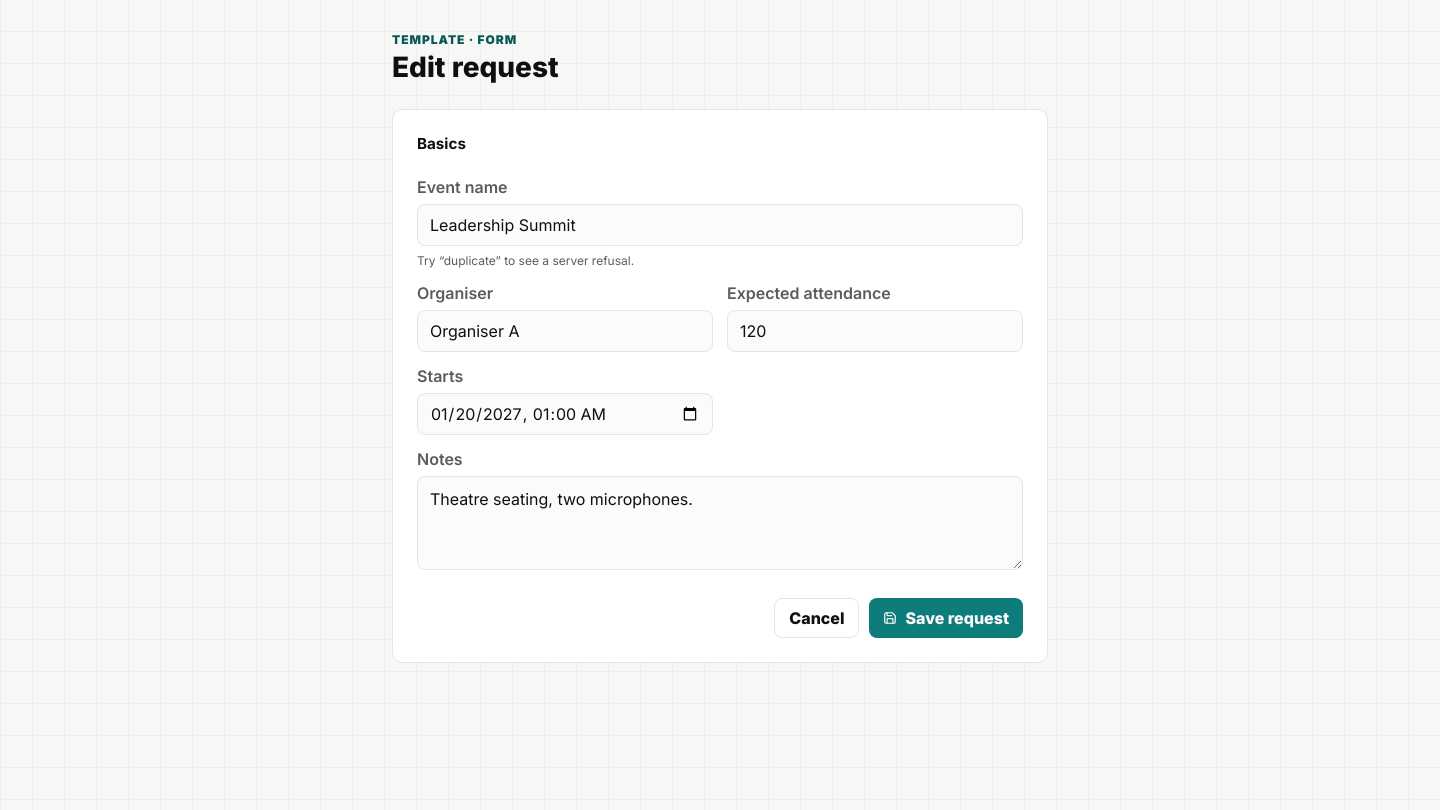
Test case: Form: errors appear next to fields, a server refusal is shown, and a save opens the detail page
Step 1. Clear the field labelled "Event name" → (720,225), box x1=417 y1=204 x2=1023 y2=246
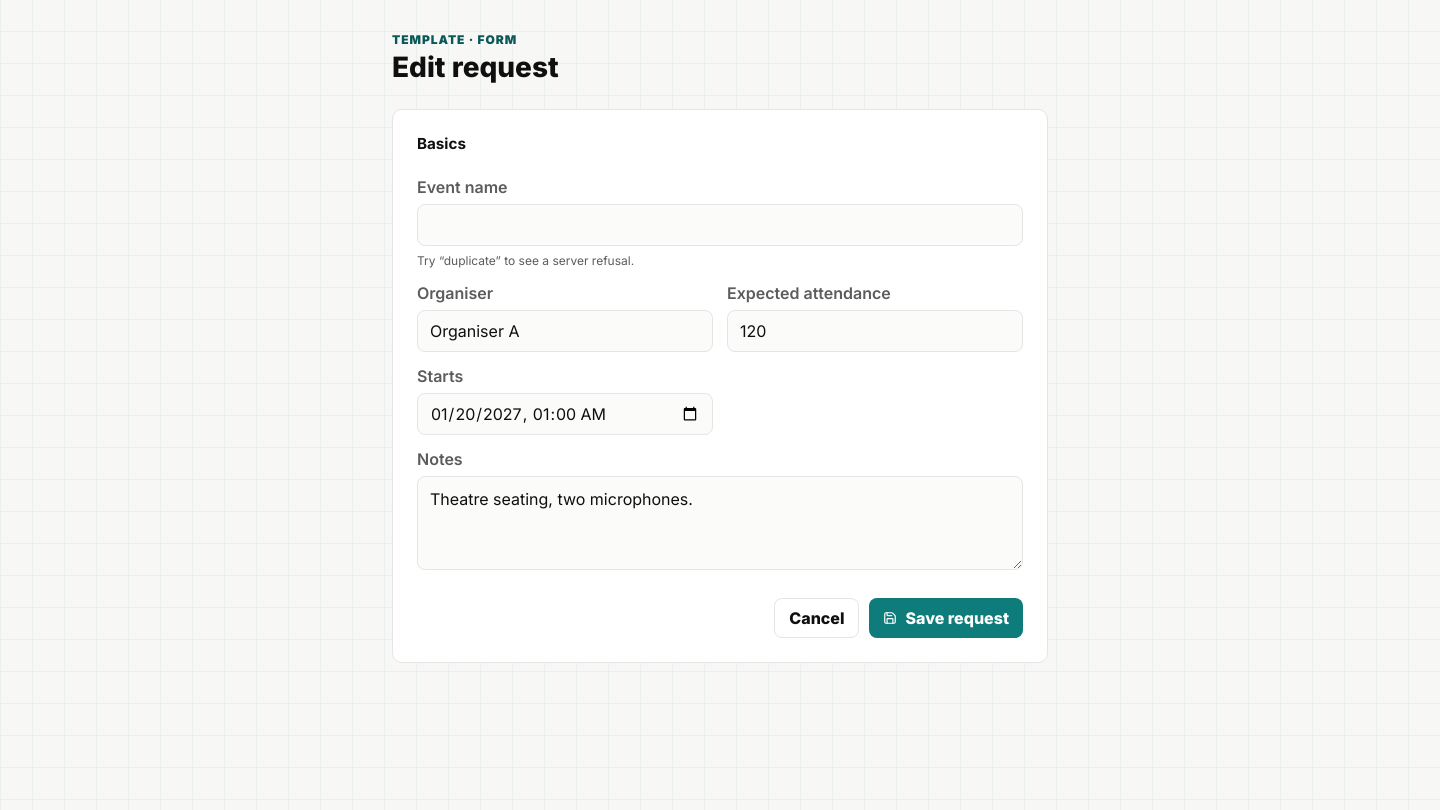
Step 2. Click the button "Save request" → (946,618), box x1=870 y1=598 x2=1023 y2=638
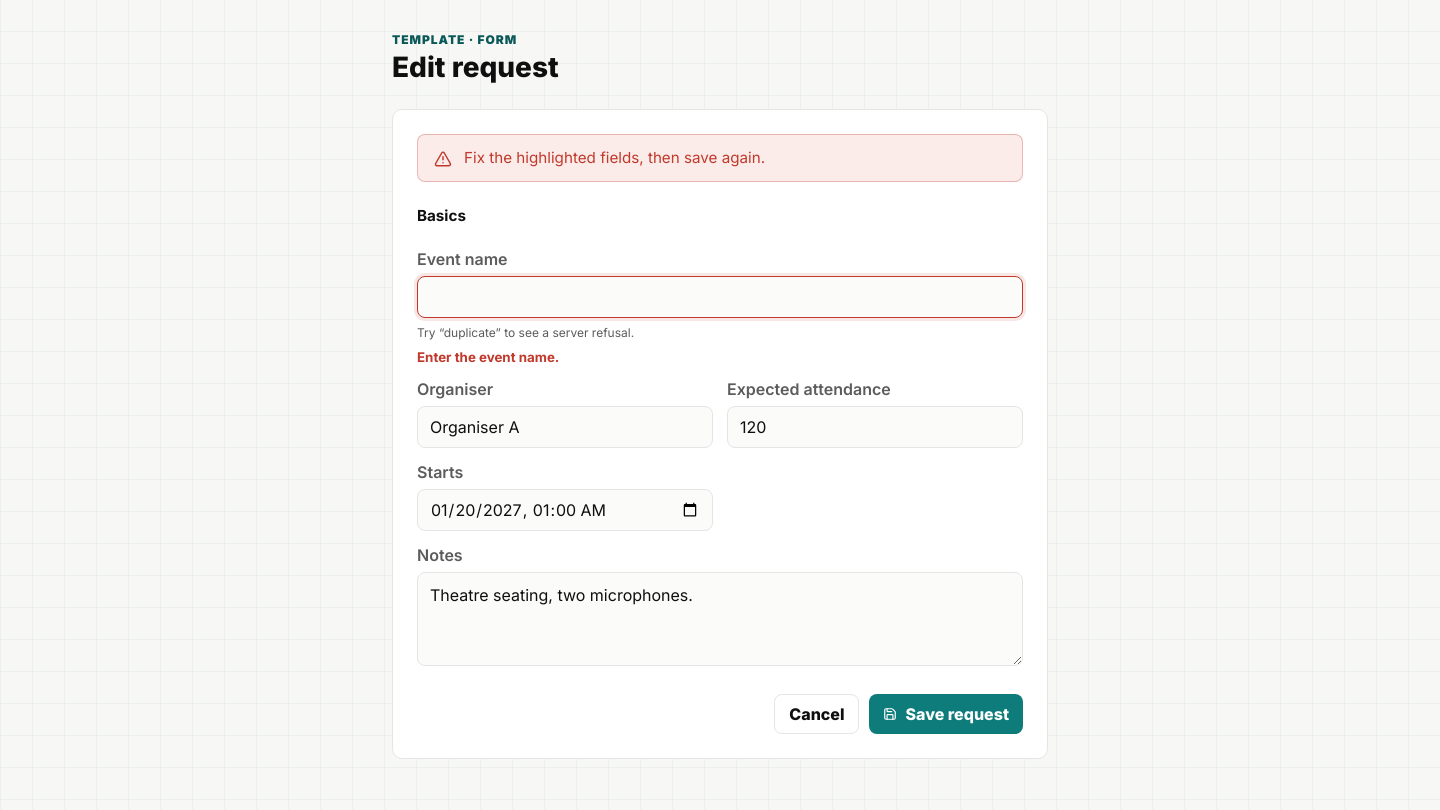
Expected: the message shows "Fix the highlighted fields", x1=464 y1=148 x2=765 y2=167
Step 3. Type "duplicate" into the field labelled "Event name" → (720,297), box x1=417 y1=276 x2=1023 y2=318
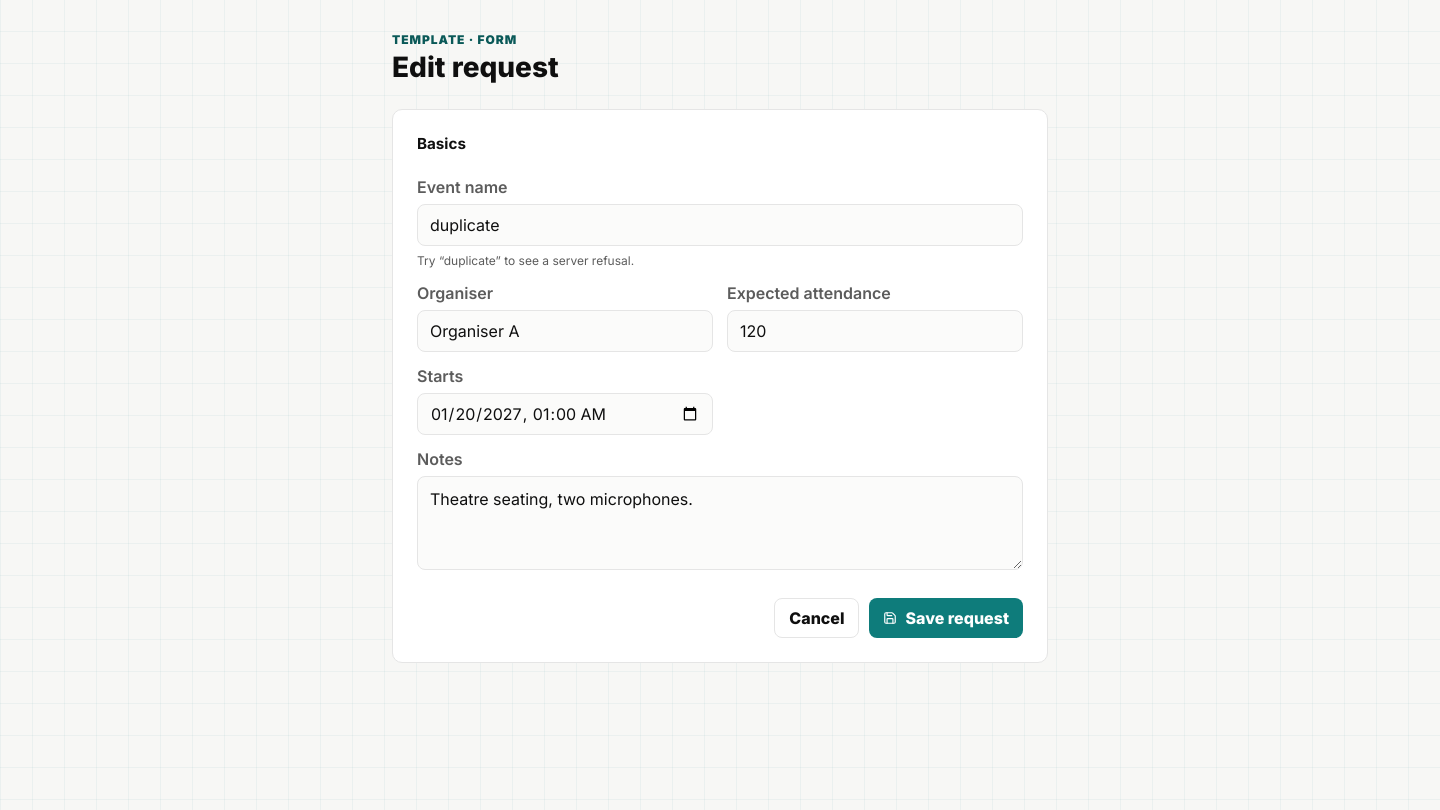
Step 4. Click the button "Save request" → (946,618), box x1=870 y1=598 x2=1023 y2=638
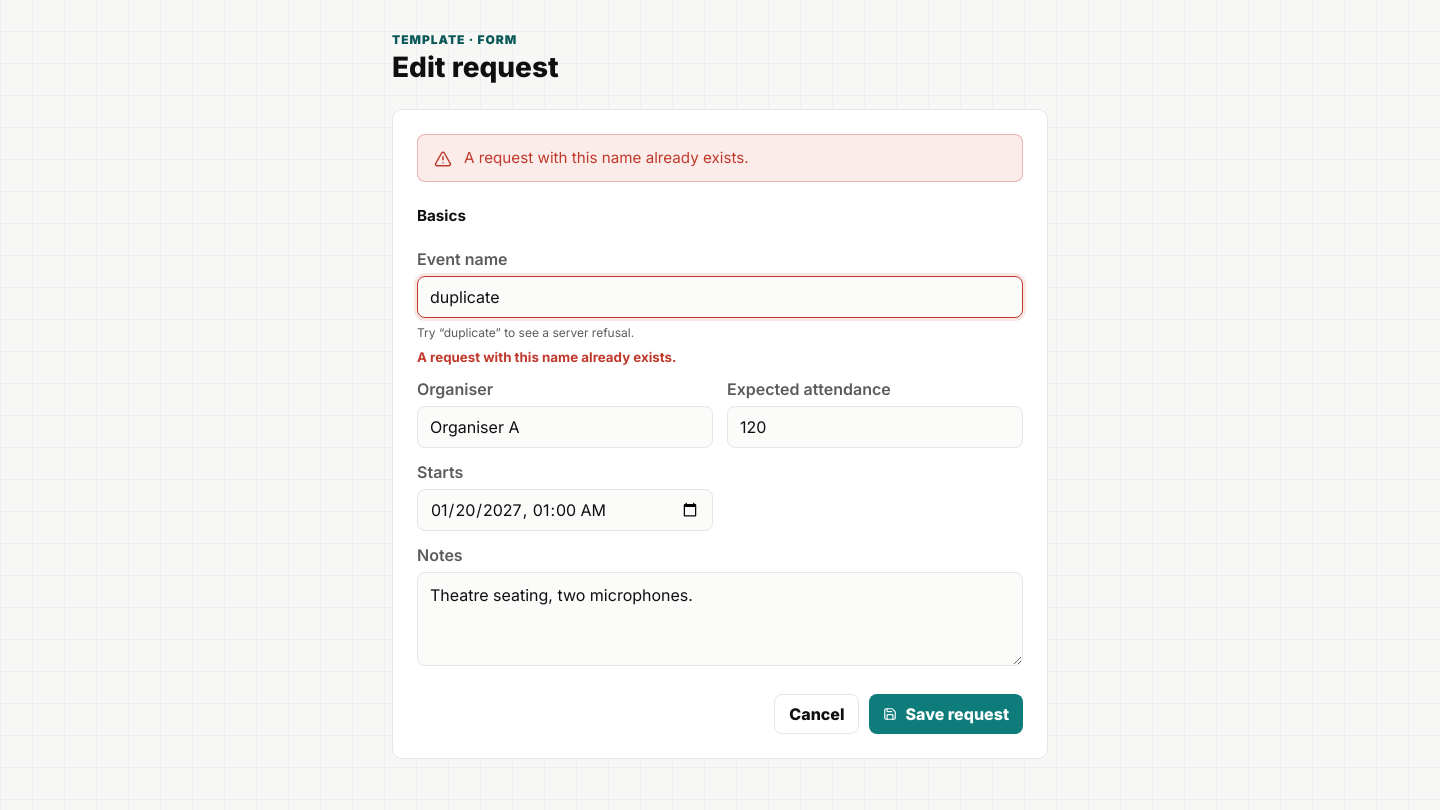
Expected: the message reads "A request with this name already exists.", x1=464 y1=148 x2=749 y2=167
Step 5. Replace the text in the field labelled "Event name" with "Leadership Summit 2027" → (720,297), box x1=417 y1=276 x2=1023 y2=318
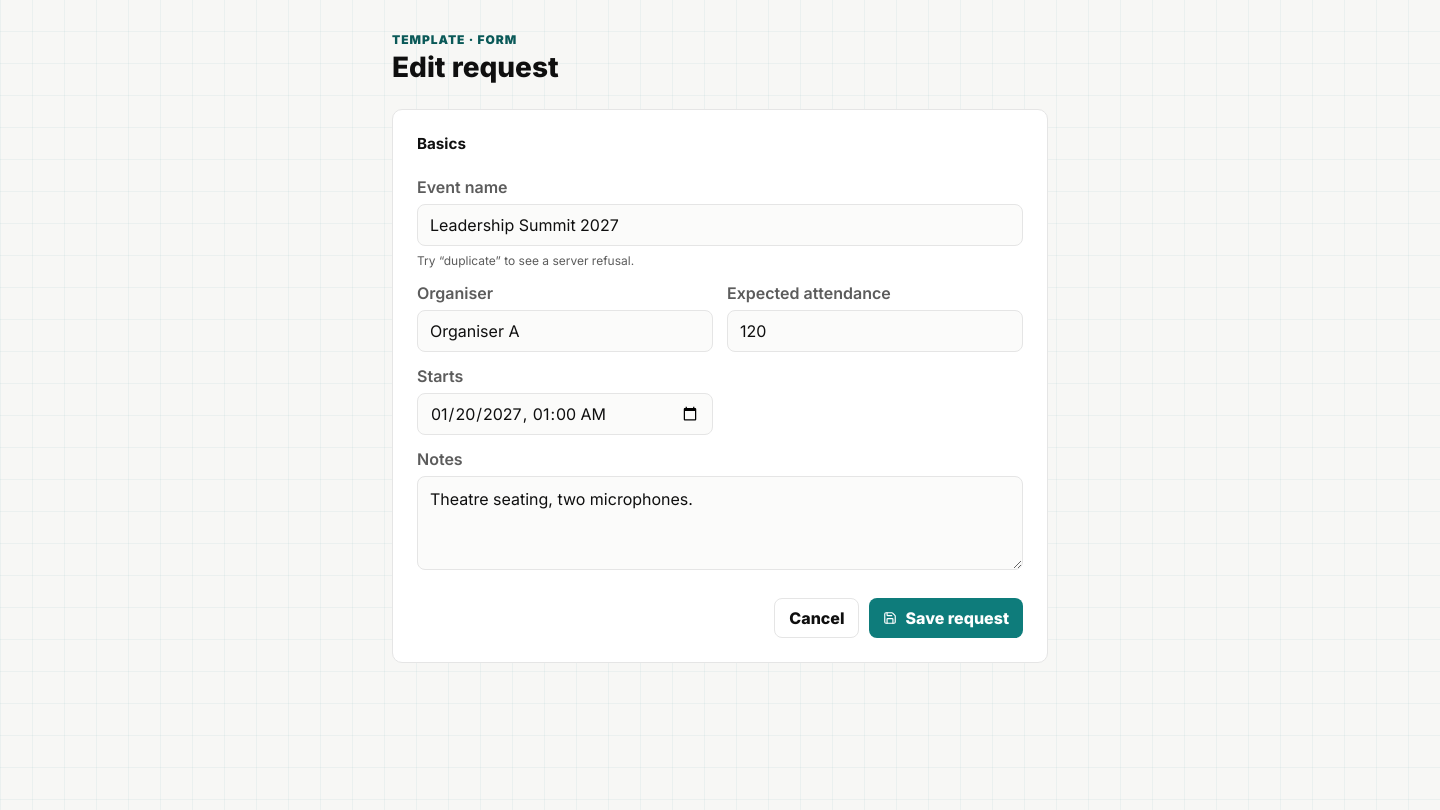
Step 6. Click the button "Save request" → (946,618), box x1=870 y1=598 x2=1023 y2=638
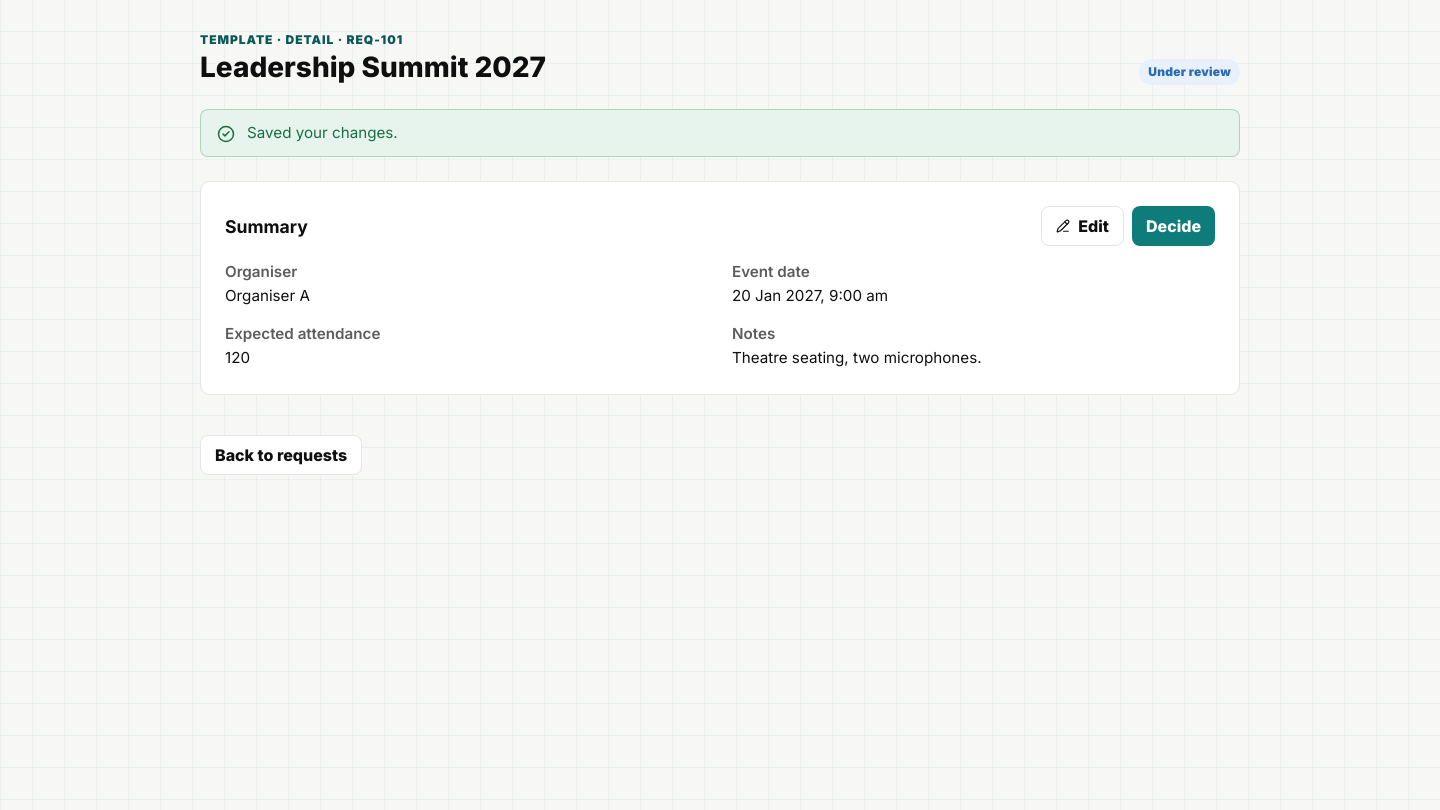
Expected: the heading "Leadership Summit 2027" is shown, x1=200 y1=51 x2=546 y2=85
Expected: the message reads "Saved your changes.", x1=247 y1=123 x2=398 y2=142
